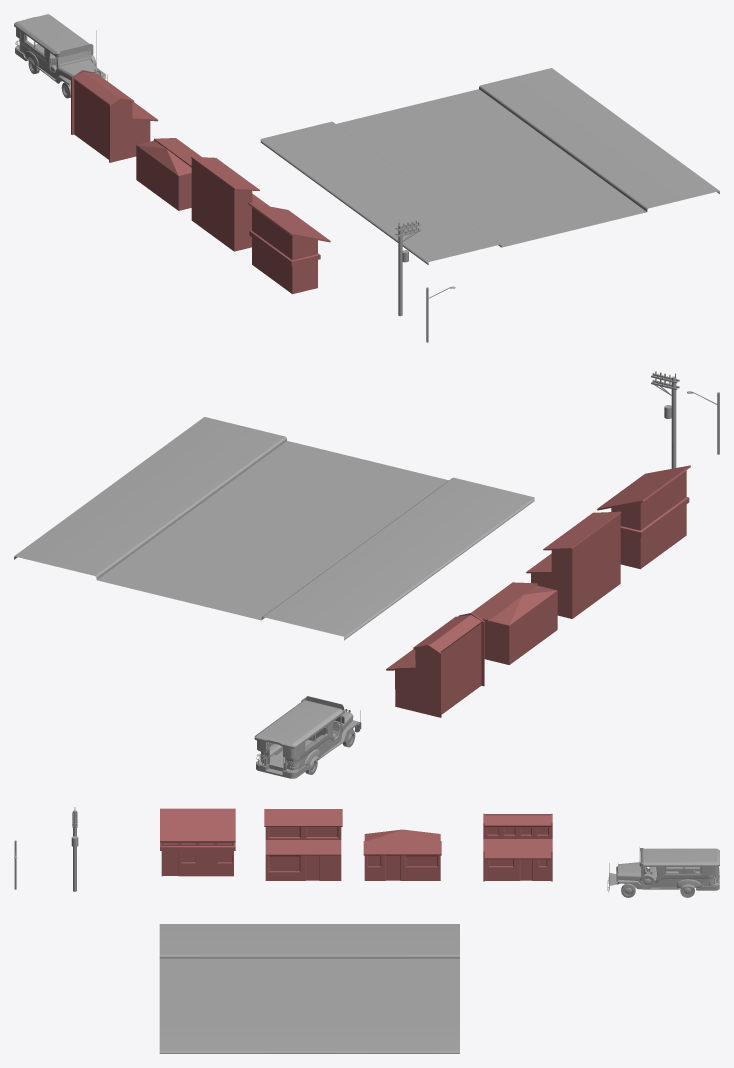
Rendered from props.fbx.
The picture shows the model from 3 angles, top to bottom: view 1: azimuth 30°, elevation 25°; view 2: azimuth 150°, elevation 25°; view 3: azimuth 270°, elevation 25°; orthographic projection. The views are drawn at different scales.
Parts seen in each view (by area): view 1: Road, House3, House2, House1, Jeep, House, Electric_Post; view 2: Road, House3, House1, House2, Jeep, House, Electric_Post; view 3: Road, House1, House2, House3, Jeep, House, Electric_Post.
Part boxes in pixels (x1,y1,x2,y2): Road: (260, 68, 719, 264); House3: (71, 70, 158, 162); House2: (248, 202, 330, 294); House1: (191, 157, 269, 251); Jeep: (14, 14, 107, 98); House: (136, 138, 201, 210); Electric_Post: (395, 220, 420, 316); Road: (14, 417, 534, 640); House3: (386, 612, 484, 717); House1: (526, 511, 621, 618); House2: (597, 465, 690, 569); Jeep: (254, 696, 361, 778); House: (471, 582, 557, 664); Electric_Post: (651, 371, 679, 468); Road: (159, 924, 459, 1053); House1: (264, 809, 342, 880); House2: (160, 808, 235, 876); House3: (483, 813, 552, 881); Jeep: (607, 847, 719, 897); House: (363, 829, 441, 880); Electric_Post: (71, 807, 78, 891).
Size of the model in its own units: 3545 by 764 by 5653.
